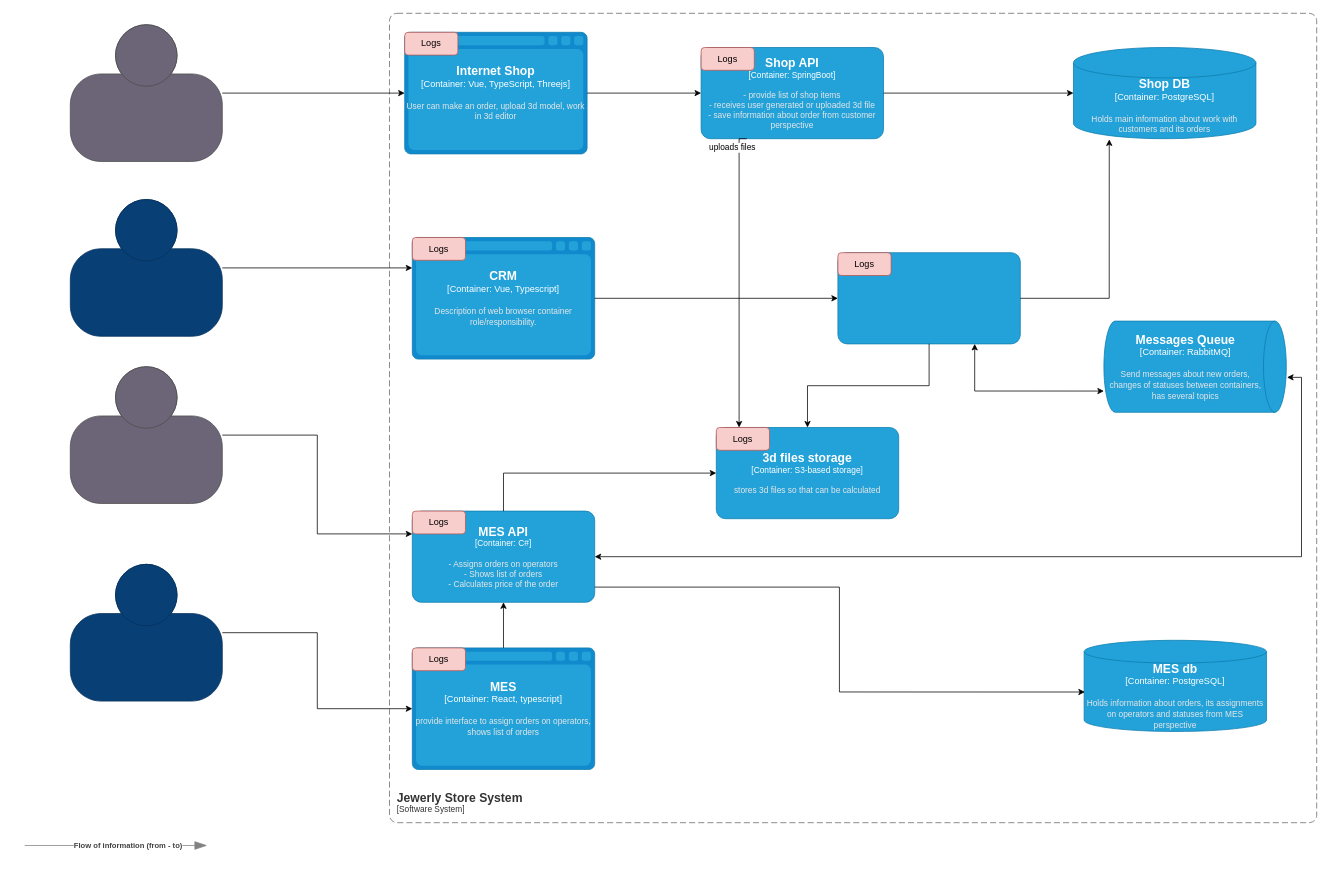
The diagram is 1330 pixels wide and 871 high, and some of its shapes have lost their labels. The shapes that lost their labels are listed below. From the top down, each one's box as (x1, y1, x2, y2) in pixels, then its label:
(70, 24, 222, 162): Customer [Person] Description of external person.
(70, 199, 222, 336): Seller [Person] Operates with order, confirms manufacturing for the user
(837, 252, 1020, 344): CRM API [Container: SpringBoot] Description of container role/responsibility.
(70, 366, 222, 504): API user [Person] Description of external person.
(70, 564, 222, 701): Operator [Person] Takes order in work, manufactures jewerly
